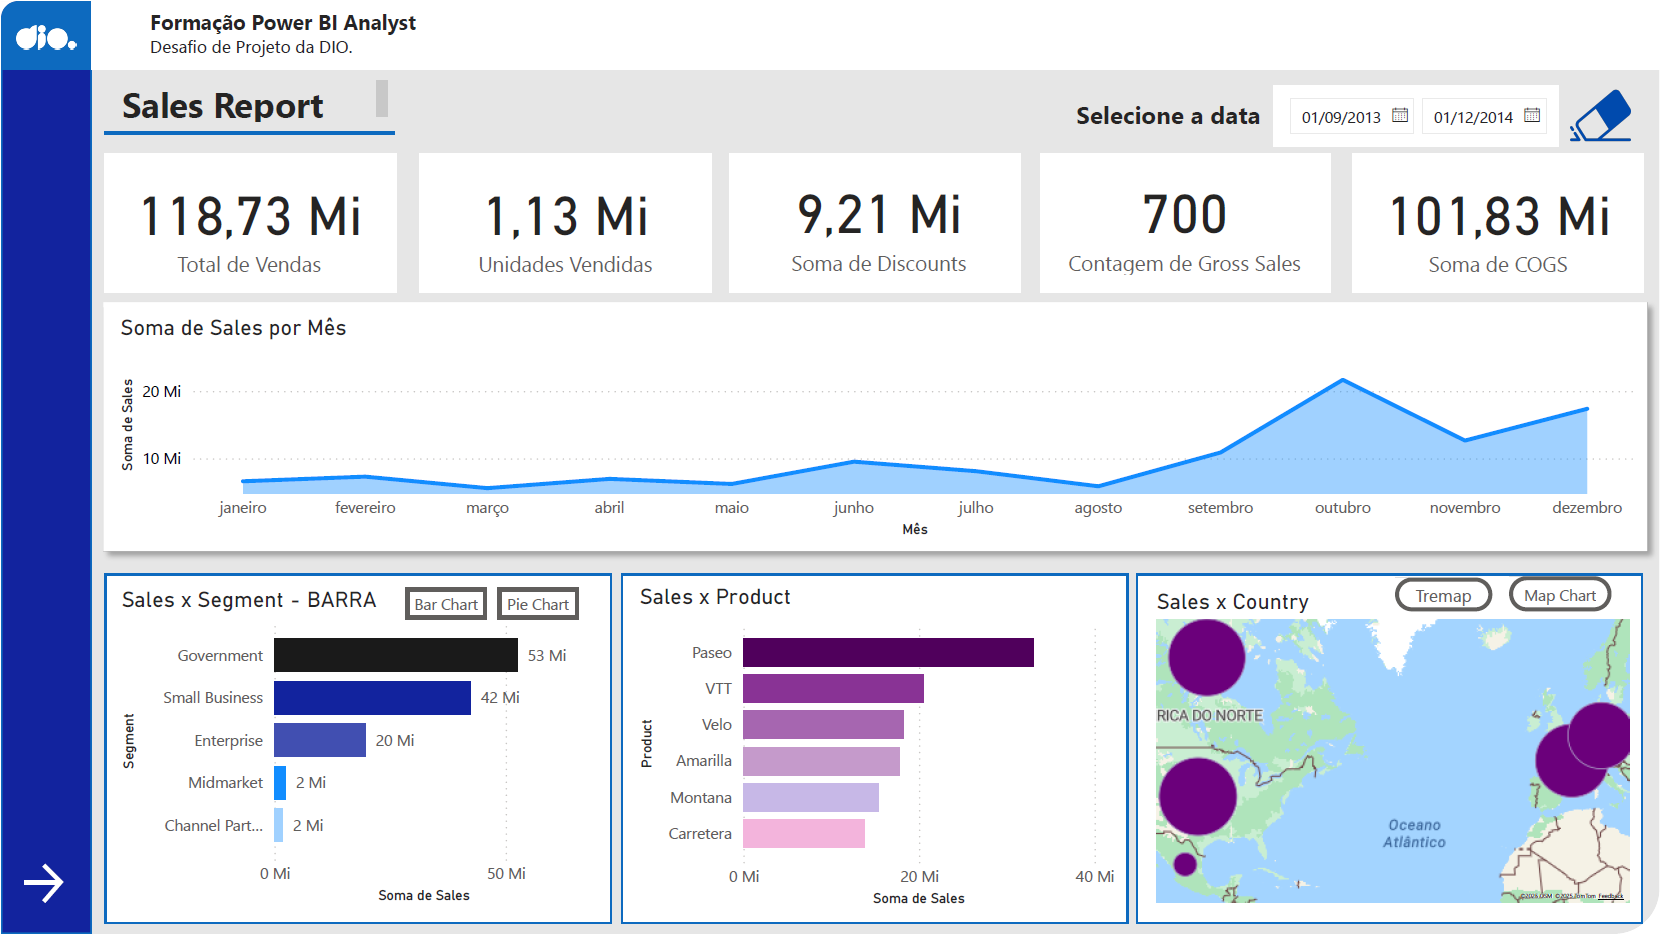

The dashboard page shown, as its layout file describes it:
{"tool":"powerbi","page":{"name":"Página 1","canvas":[1280,720],"ordinal":0},"visuals":[{"type":"group","id":"g1","title":"Barra lateral","box":[0,0,1280,720],"z":0},{"type":"shape","box":[0,0,1280,720],"z":0,"group":"g1"},{"type":"image","title":"Img_Borracha","box":[1201.2,60.3,65.2,57.4],"z":0,"group":"g4"},{"type":"shape","box":[80.2,88.9,224.3,25.9],"z":0,"group":"g6"},{"type":"shape","box":[79.8,117.7,224.7,107],"z":0,"group":"g3"},{"type":"shape","box":[79.5,442.6,391.3,269.4],"z":0,"group":"g2"},{"type":"clusteredBarChart","title":"Sales x Segment - BARRA","fields":{"Y":["Sum(financials. Sales)"],"Category":["financials.Segment"]},"box":[88,452,374.3,249.3],"z":0,"group":"g5"},{"type":"azureMap","title":"Sales x Country ","fields":{"Size":["Sum(financials. Sales)"],"Category":["financials.Country"]},"box":[887.3,452.7,374.8,247.9],"z":0,"group":"g7"},{"type":"shape","box":[0,0,70,719.8],"z":1000,"group":"g1"},{"type":"textbox","box":[88,56.1,215.6,42.3],"z":1000,"group":"g6"},{"type":"slicer","fields":{"Values":["financials.Date"]},"box":[981.6,65.5,219.9,46.6],"z":1000,"group":"g4"},{"type":"shape","box":[323,117.7,224.7,107],"z":1000,"group":"g3"},{"type":"group","id":"g2","title":"Formas geral relatorio","box":[69.9,224.3,1210.1,487.7],"z":1000},{"type":"shape","box":[875.5,442.6,391.3,269.4],"z":1000,"group":"g2"},{"type":"actionButton","title":"Botão - Map","box":[1163.7,443.7,79.6,26.5],"z":1500,"group":"g7"},{"type":"shape","box":[0,0,69.9,53.5],"z":2000,"group":"g1"},{"type":"textbox","box":[824.6,69.9,157,37.1],"z":2000,"group":"g4"},{"type":"shape","box":[562.2,117.7,224.7,107],"z":2000,"group":"g3"},{"type":"areaChart","fields":{"Category":["financials.Date.Variation.Hierarquia de datas.Mês"],"Y":["Sum(financials. Sales)"]},"box":[87.1,241.5,1179.9,176.8],"z":2000},{"type":"shape","box":[478.8,442.6,391.3,269.4],"z":2000,"group":"g2"},{"type":"actionButton","title":"Botão - Tremap","box":[1076.2,444.6,75.2,25.7],"z":2000,"group":"g7"},{"type":"actionButton","title":"Botão - Bar","box":[312,453,63,24],"z":2000,"group":"g5"},{"type":"image","title":"Logo_Dio","box":[6.9,0,56.1,56.1],"z":3000,"group":"g1"},{"type":"actionButton","title":"Botão - Pie","box":[303,6,63,24],"z":3000},{"type":"actionButton","box":[1207.6,65.5,51.8,49.2],"z":3000,"group":"g4"},{"type":"shape","box":[801.5,117.7,224.7,107],"z":3000,"group":"g3"},{"type":"shape","box":[69.9,224.3,1210.1,209.6],"z":3000,"group":"g2"},{"type":"actionButton","title":"Botão - Pie","box":[383,453,63,24],"z":3000,"group":"g5"},{"type":"group","id":"g3","title":"Grupo 1","box":[79.8,117.7,1187.6,107],"z":4000},{"type":"shape","box":[1042.7,117.7,224.7,107],"z":4000,"group":"g3"},{"type":"clusteredBarChart","title":"Sales x Product","fields":{"Y":["Sum(financials. Sales)"],"Category":["financials.Product"]},"box":[488,449.5,375.7,253.9],"z":4000,"group":"g2"},{"type":"group","id":"g4","title":"Filtro por DATA","box":[824.6,60.3,441.8,57.4],"z":5000},{"type":"card","fields":{"Values":["CountNonNull(financials.Gross Sales)"]},"box":[809.1,125.1,208.7,90.6],"z":5000,"group":"g3"},{"type":"card","fields":{"Values":["Sum(financials. Sales)"]},"box":[87.2,125.9,208.7,90.6],"z":6000,"group":"g3"},{"type":"group","id":"g5","title":"Sales x Segment","box":[80,447,382.3,259],"z":6000},{"type":"group","id":"g6","title":"Titulo relatório","box":[80.2,56.1,224.3,58.7],"z":7000},{"type":"card","fields":{"Values":["Sum(financials.Units Sold)"]},"box":[331.3,125.9,208.7,90.6],"z":7000,"group":"g3"},{"type":"textbox","box":[70,0,1210,53.5],"z":8000},{"type":"card","fields":{"Values":["Sum(financials.Discounts)"]},"box":[572.8,125.1,208.7,90.6],"z":8000,"group":"g3"},{"type":"card","fields":{"Values":["Sum(financials.COGS)"]},"box":[1050.6,125.9,208.7,90.6],"z":9000,"group":"g3"},{"type":"actionButton","box":[12,661,45,40],"z":9000},{"type":"group","id":"g7","title":"Sales x País","box":[878.9,443.7,382.8,257.7],"z":12000}]}

Visuals, with their boxes in screenshot pixels (x1, y1, x2, y2), scaled from the page's 1280x720 canvas onto the 1662x938 screenshot:
"Barra lateral" group: [x1=0, y1=0, x2=1661, y2=937]
shape: [x1=0, y1=0, x2=1661, y2=937]
"Img_Borracha" image: [x1=1560, y1=79, x2=1644, y2=153]
shape: [x1=104, y1=116, x2=395, y2=150]
shape: [x1=104, y1=153, x2=395, y2=293]
shape: [x1=103, y1=577, x2=611, y2=928]
"Sales x Segment - BARRA" clusteredBarChart: [x1=114, y1=589, x2=600, y2=914]
"Sales x Country " azureMap: [x1=1152, y1=590, x2=1639, y2=913]
shape: [x1=0, y1=0, x2=91, y2=937]
textbox: [x1=114, y1=73, x2=394, y2=128]
slicer - financials.Date: [x1=1275, y1=85, x2=1560, y2=146]
shape: [x1=419, y1=153, x2=711, y2=293]
"Formas geral relatorio" group: [x1=91, y1=292, x2=1661, y2=928]
shape: [x1=1137, y1=577, x2=1645, y2=928]
"Botão - Map" actionButton: [x1=1511, y1=578, x2=1614, y2=613]
shape: [x1=0, y1=0, x2=91, y2=70]
textbox: [x1=1071, y1=91, x2=1275, y2=139]
shape: [x1=730, y1=153, x2=1022, y2=293]
areaChart - financials.Date.Variation.Hierarquia de datas.Mês x Sum(financials. Sales): [x1=113, y1=315, x2=1645, y2=545]
shape: [x1=622, y1=577, x2=1130, y2=928]
"Botão - Tremap" actionButton: [x1=1397, y1=579, x2=1495, y2=613]
"Botão - Bar" actionButton: [x1=405, y1=590, x2=487, y2=621]
"Logo_Dio" image: [x1=9, y1=0, x2=82, y2=73]
"Botão - Pie" actionButton: [x1=393, y1=8, x2=475, y2=39]
actionButton: [x1=1568, y1=85, x2=1635, y2=149]
shape: [x1=1041, y1=153, x2=1332, y2=293]
shape: [x1=91, y1=292, x2=1661, y2=565]
"Botão - Pie" actionButton: [x1=497, y1=590, x2=579, y2=621]
"Grupo 1" group: [x1=104, y1=153, x2=1646, y2=293]
shape: [x1=1354, y1=153, x2=1646, y2=293]
"Sales x Product" clusteredBarChart: [x1=634, y1=586, x2=1121, y2=916]
"Filtro por DATA" group: [x1=1071, y1=79, x2=1644, y2=153]
card - CountNonNull(financials.Gross Sales): [x1=1051, y1=163, x2=1322, y2=281]
card - Sum(financials. Sales): [x1=113, y1=164, x2=384, y2=282]
"Sales x Segment" group: [x1=104, y1=582, x2=600, y2=920]
"Titulo relatório" group: [x1=104, y1=73, x2=395, y2=150]
card - Sum(financials.Units Sold): [x1=430, y1=164, x2=701, y2=282]
textbox: [x1=91, y1=0, x2=1661, y2=70]
card - Sum(financials.Discounts): [x1=744, y1=163, x2=1015, y2=281]
card - Sum(financials.COGS): [x1=1364, y1=164, x2=1635, y2=282]
actionButton: [x1=16, y1=861, x2=74, y2=913]
"Sales x País" group: [x1=1141, y1=578, x2=1638, y2=914]
